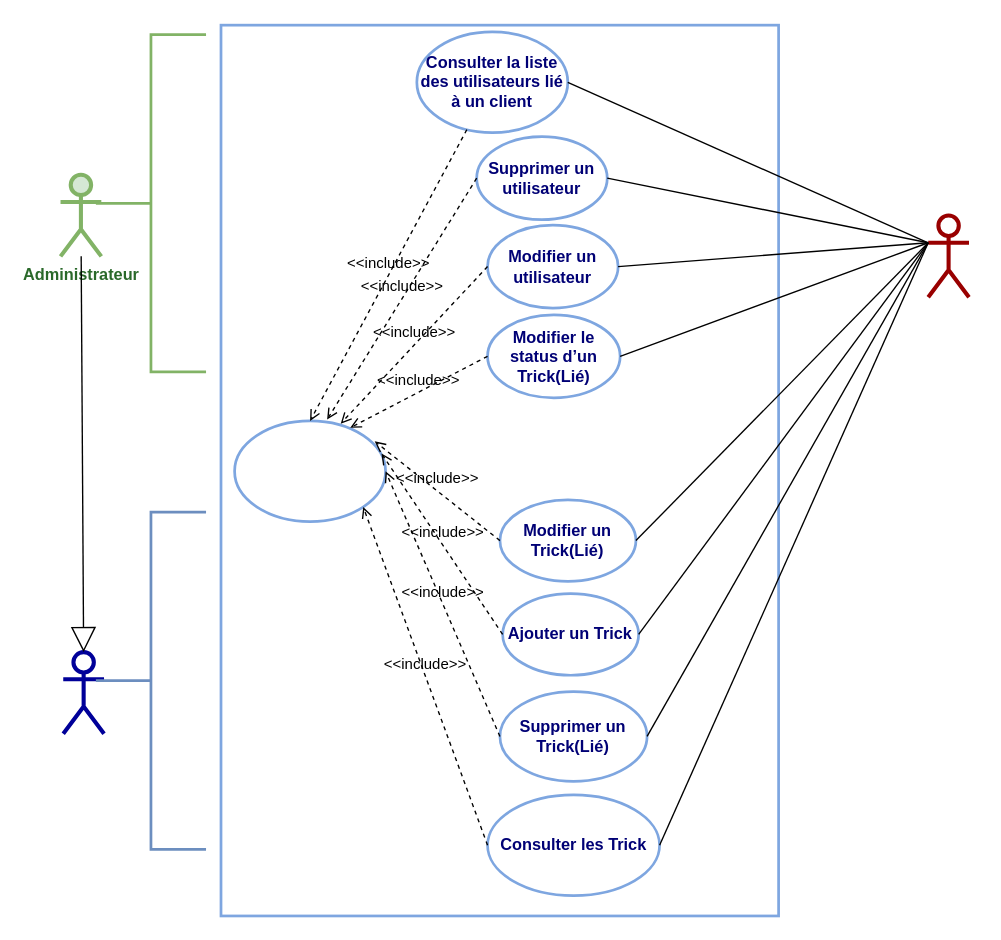
The diagram is 1001 pixels wide and 940 high, and some of its shapes have lost their labels. The centre of each missing label's shape, as x and y in pixels:
"Authentification" belongs at (x=309, y=470).
"SGBDR" belongs at (x=947, y=256).
"Utilisateur" belongs at (x=83, y=692).
